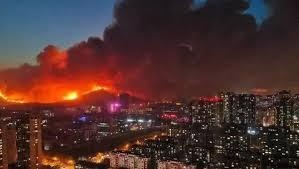fire: (61, 88, 79, 100)
